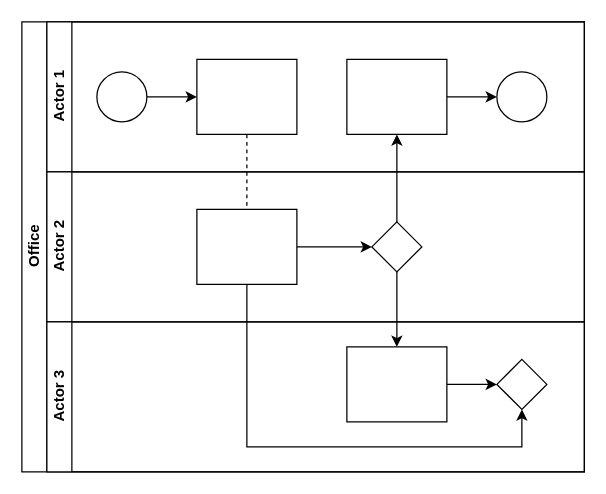
Some shapes in this 606 by 494 pixel diagram are drawn without their labels. The centre of each missing label's shape, as x and y in pixels:
"Listening to Shouting" belongs at (246,246).
"Shout in Office" belongs at (246,96).
